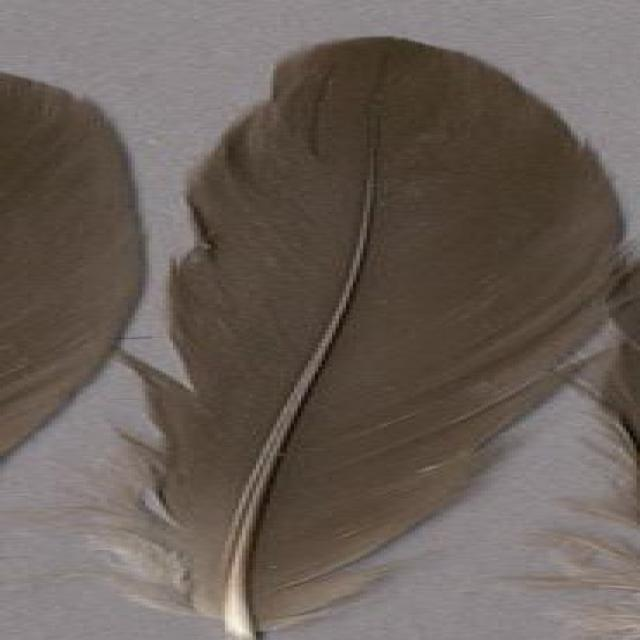feather: (92, 37, 619, 640)
